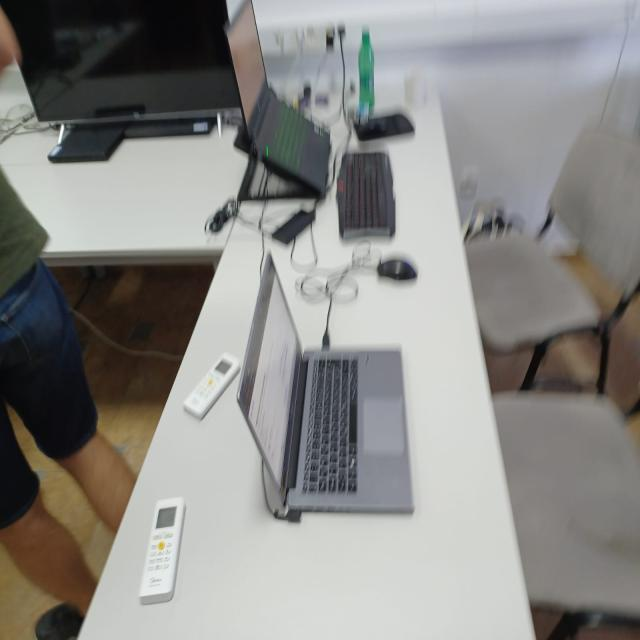Laptops_bbox: (219, 195, 448, 571)
